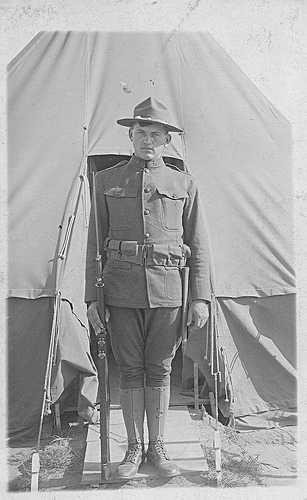person: (85, 96, 215, 482)
rifle: (87, 169, 109, 480)
